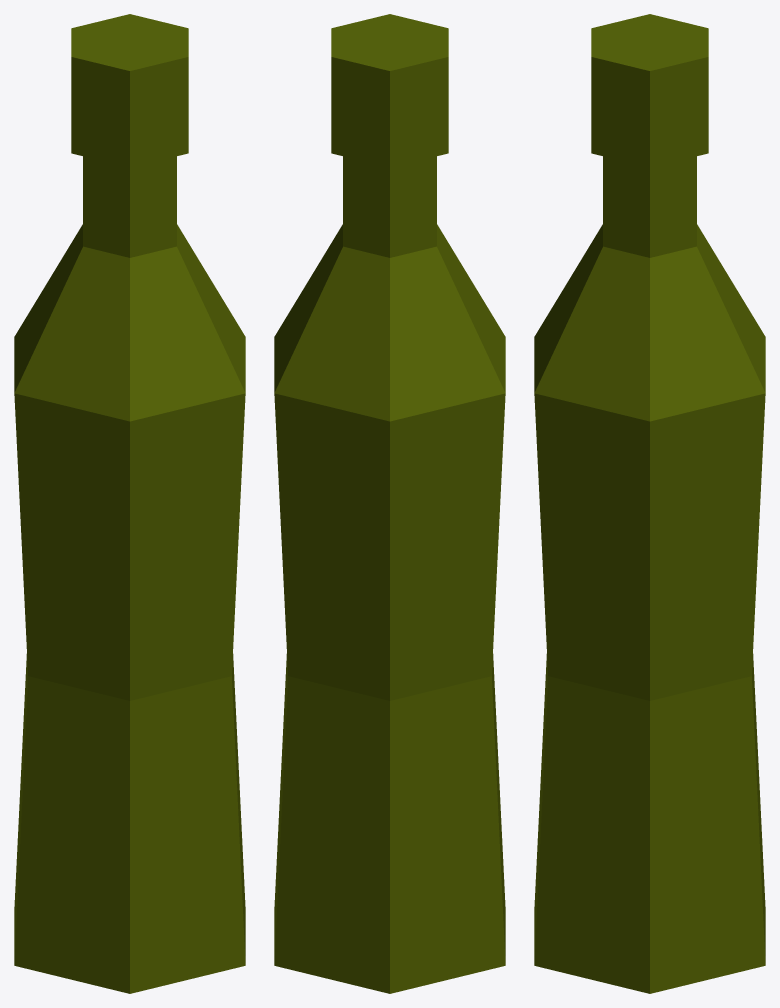
The model's file is bottle.FBX.
3 views of the same model, side by side, from view 1: azimuth 30°, elevation 25°; view 2: azimuth 150°, elevation 25°; view 3: azimuth 270°, elevation 25° (orthographic).
Parts seen in each view (by area): view 1: bottle; view 2: bottle; view 3: bottle.
Part boxes in pixels (box(x1,y1,x2,y2)): bottle: box(14, 14, 245, 993); bottle: box(274, 14, 505, 993); bottle: box(534, 14, 765, 993).
Bounding box in the file's own units: 0.6729 × 2.49 × 0.5828.
